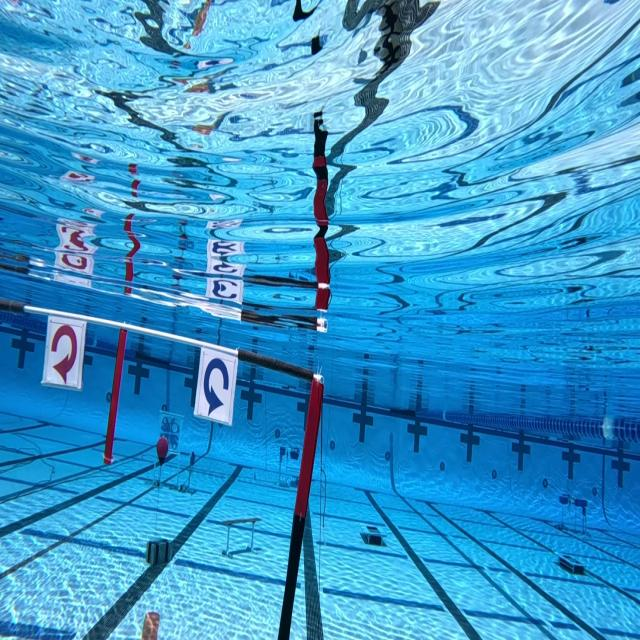blue_side: (192, 338, 245, 428)
red_side: (40, 307, 87, 392)
